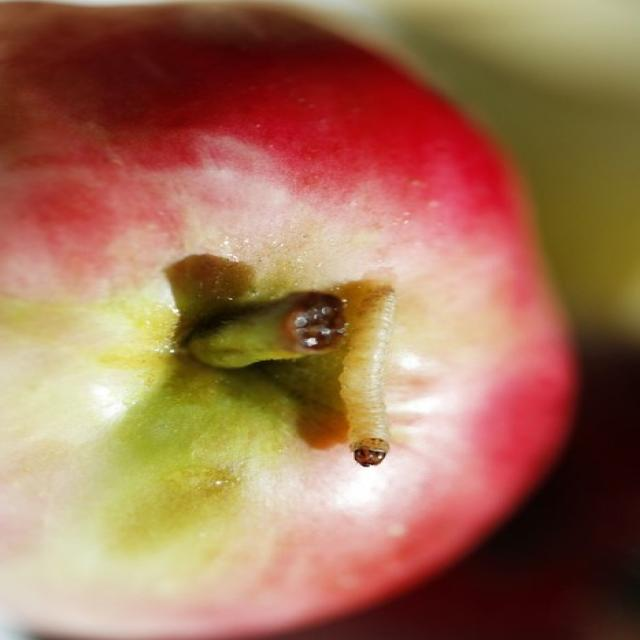worm: (342, 279, 429, 477)
